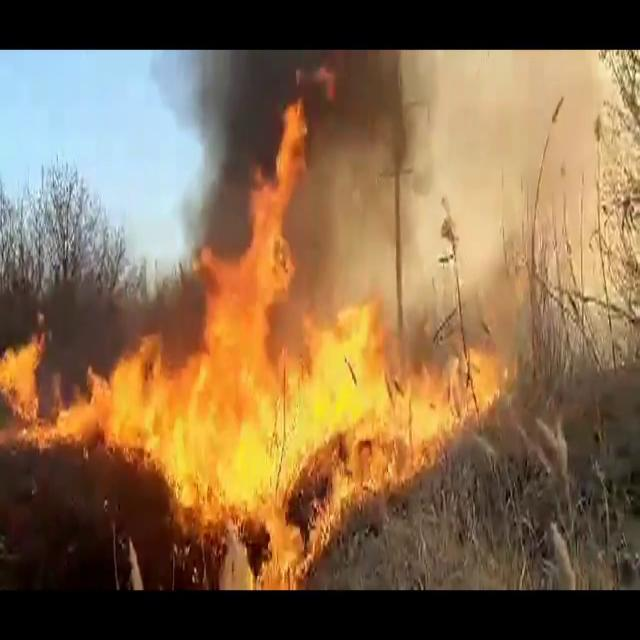Fire: (107, 88, 511, 538), (0, 332, 109, 460)
Smoke: (316, 60, 636, 359)
